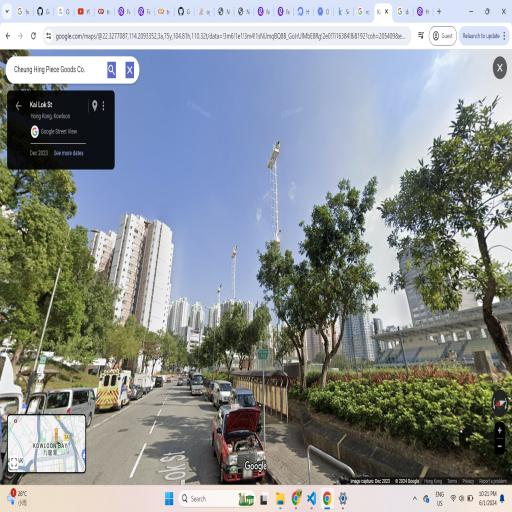Roads: (27, 363, 388, 469)
Trees: (388, 80, 506, 417), (264, 172, 383, 408), (203, 298, 268, 372)
